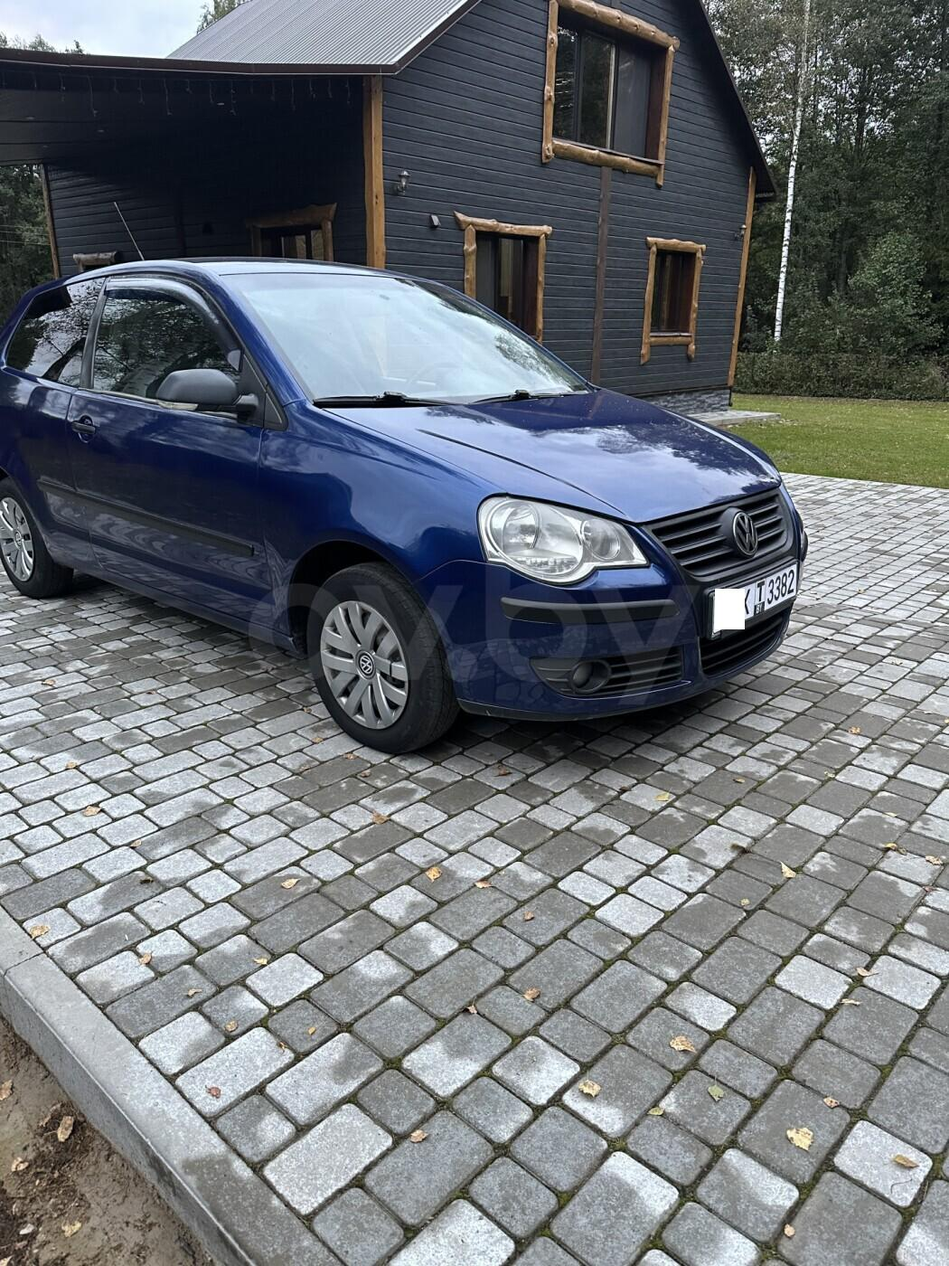Polo_2005-2009: (0, 233, 836, 805)
